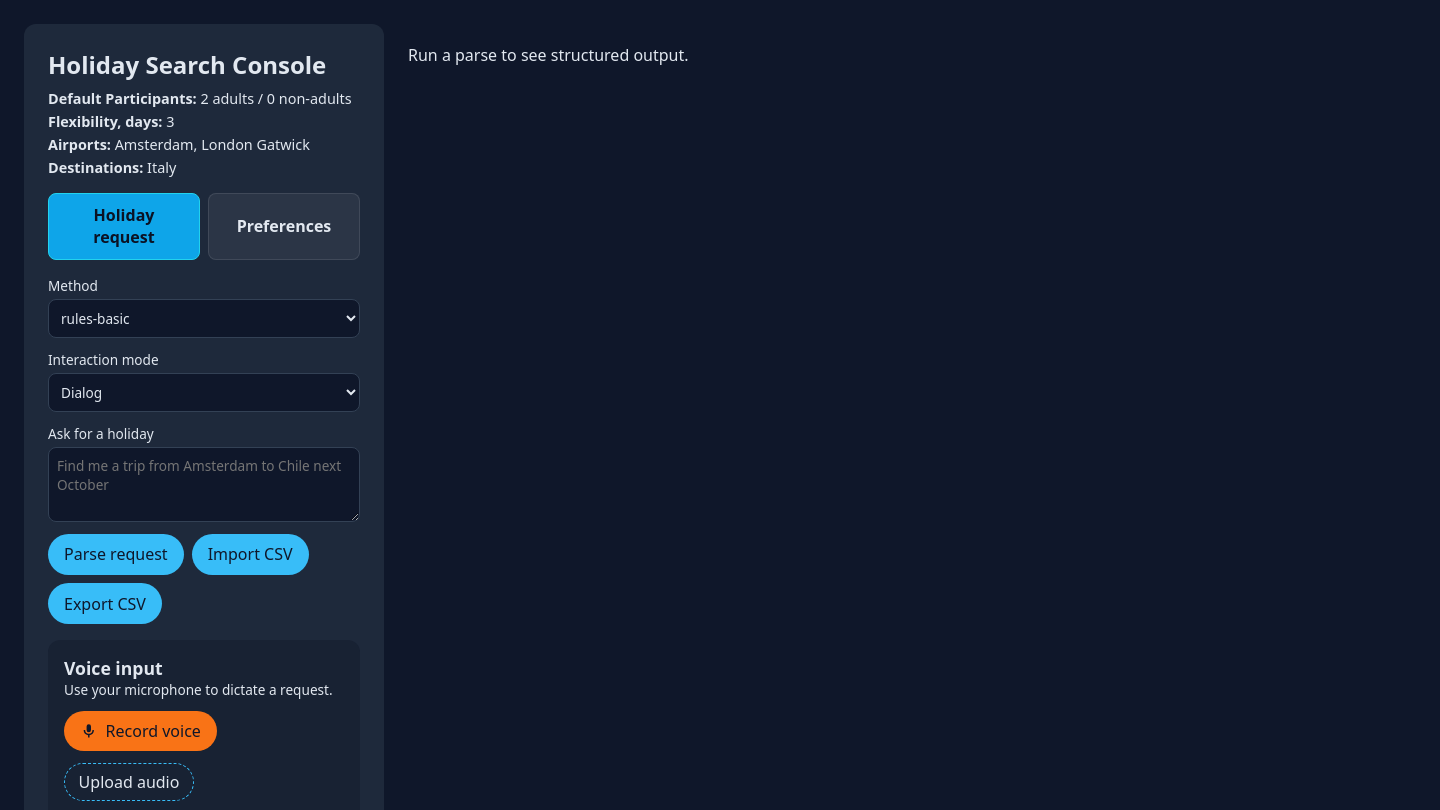
Test: Holiday search console › hides API request parameters for preferences results
Check: the element with test id "fixtures-loaded" is shown, box x1=48 y1=89 x2=360 y2=177
Click the button with test id "mode-toggle-preferences" at (284,226), box x1=208 y1=193 x2=360 y2=260
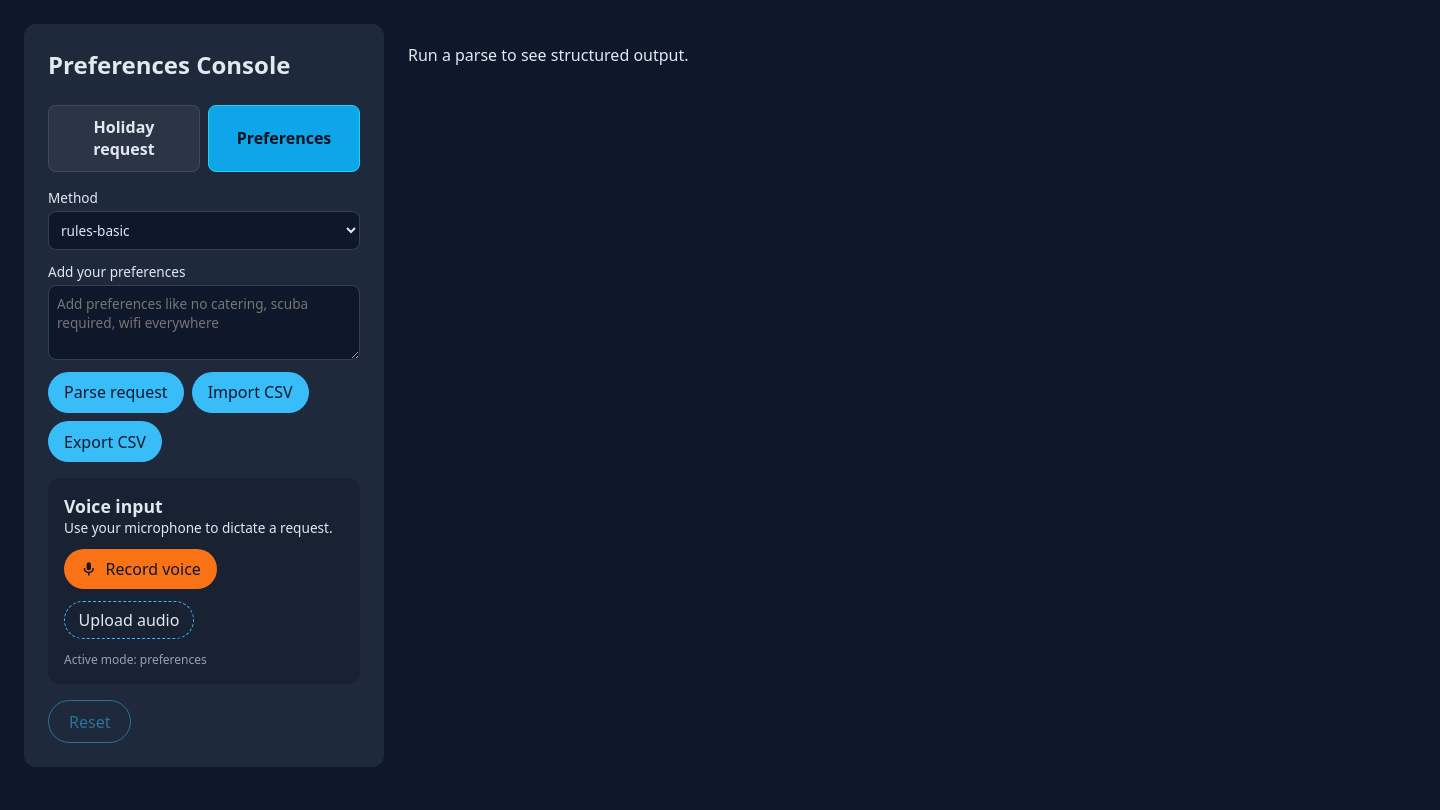
Replace the text in the text box with test id "query-input" with "No catering but scuba required" at (204,322), box x1=48 y1=285 x2=360 y2=360
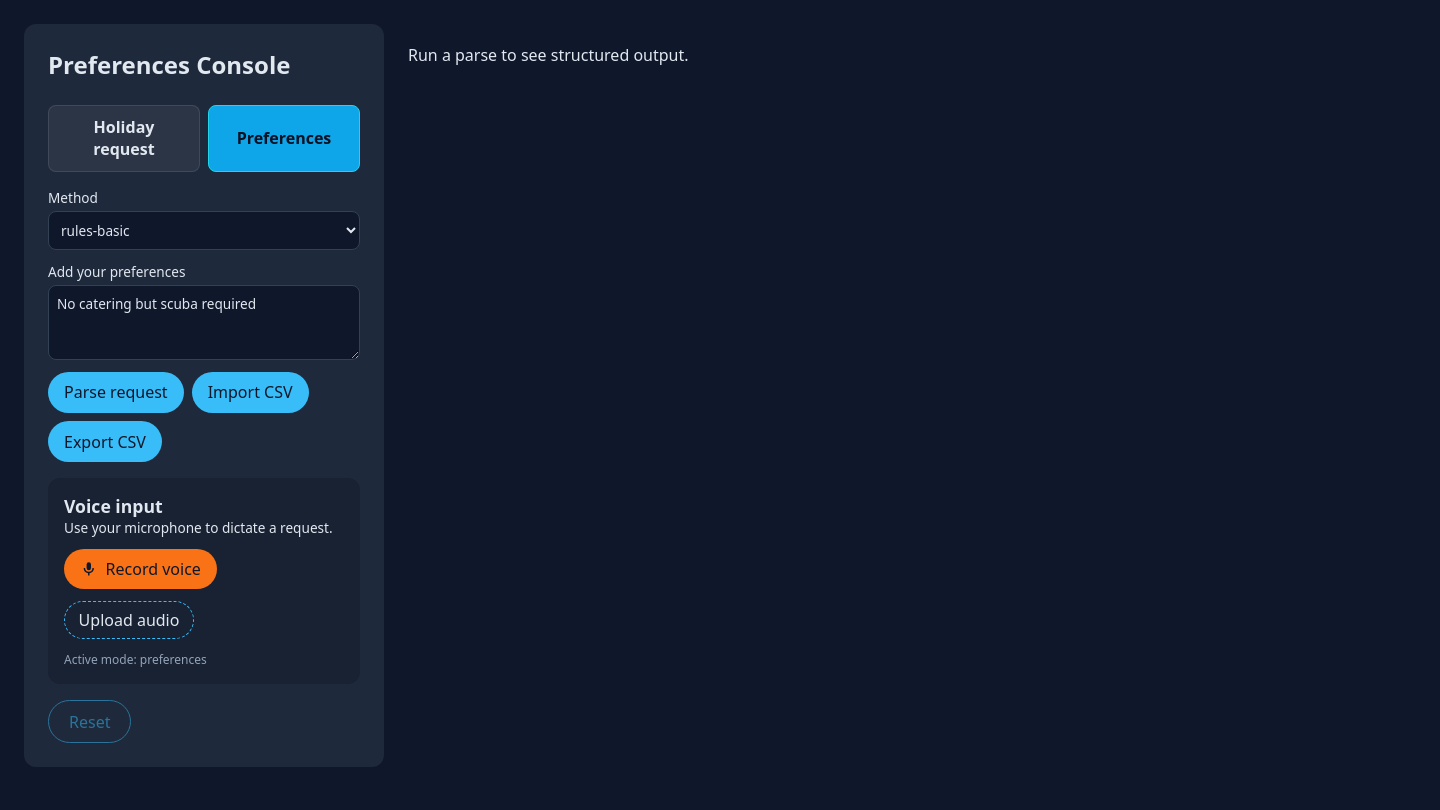
Submit the form with test id "parse-form", box x1=48 y1=188 x2=360 y2=462
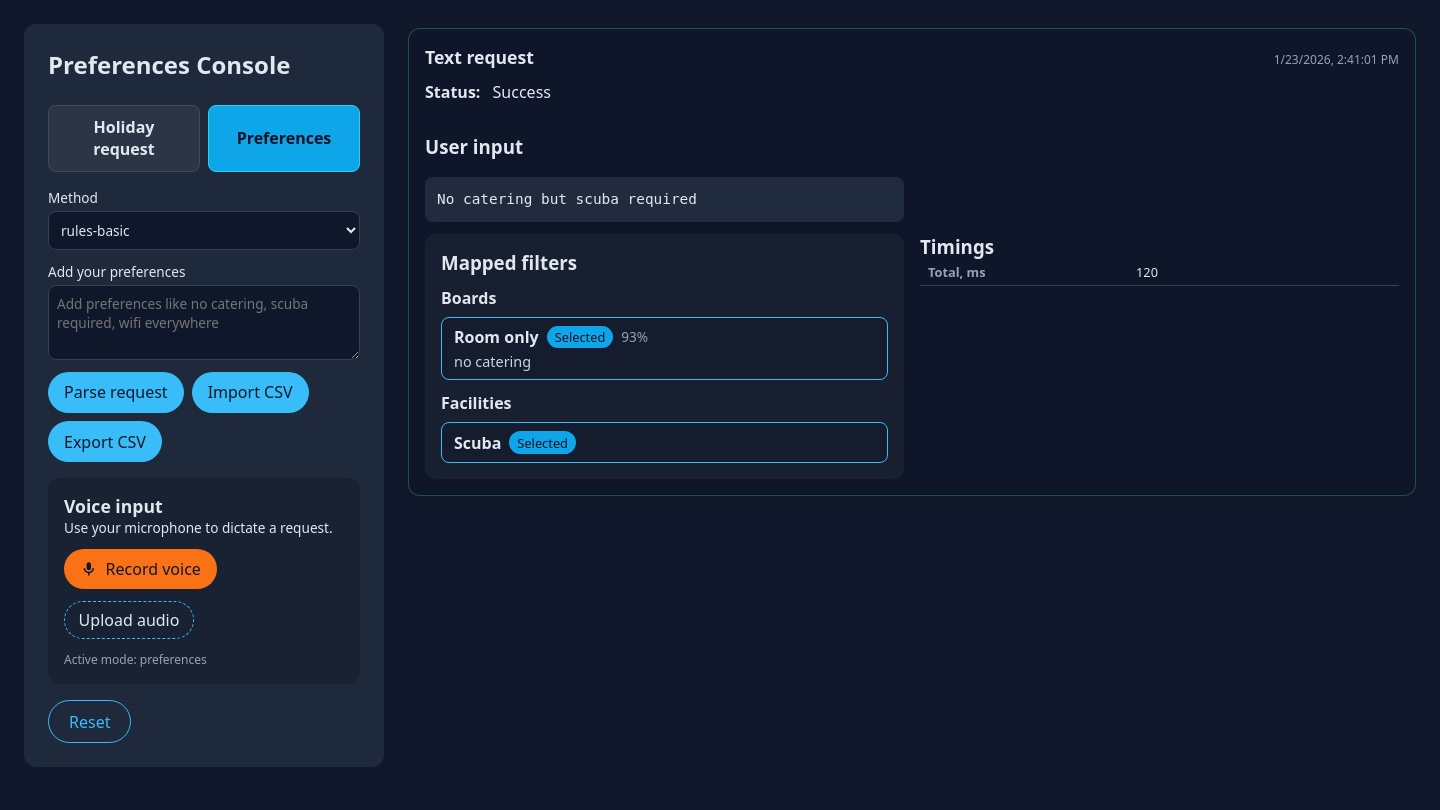
Check: the element with test id "mapped-filters" is shown, box x1=425 y1=234 x2=904 y2=479
